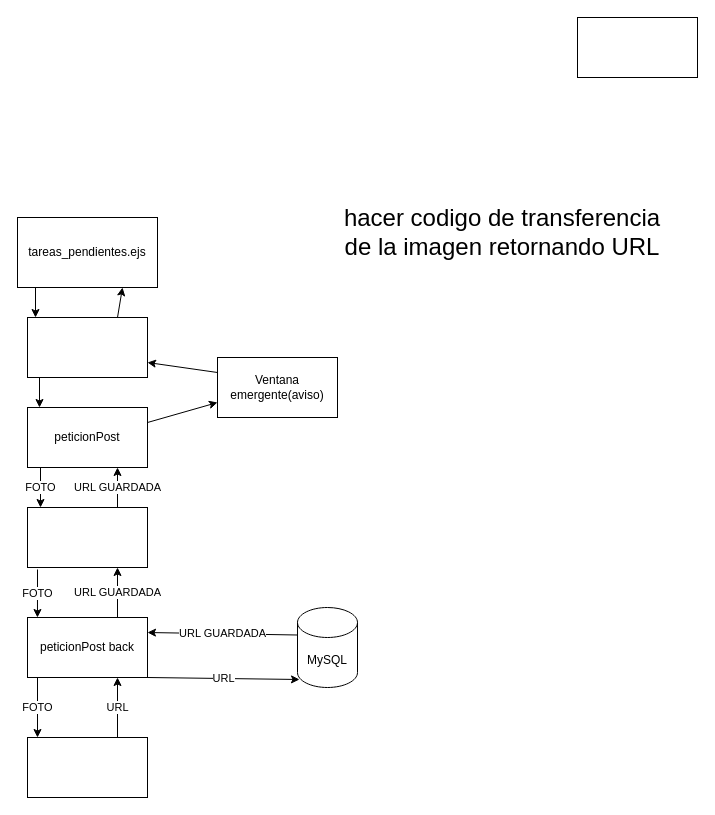
Some shapes in this 715 by 815 pixel diagram are drawn without their labels. Each missing label, with the centre of its shape:
"Imagen." belongs at [87,347].
"peticionPost cloudinary" belongs at [87,767].
"peticionPost front" belongs at [87,537].
